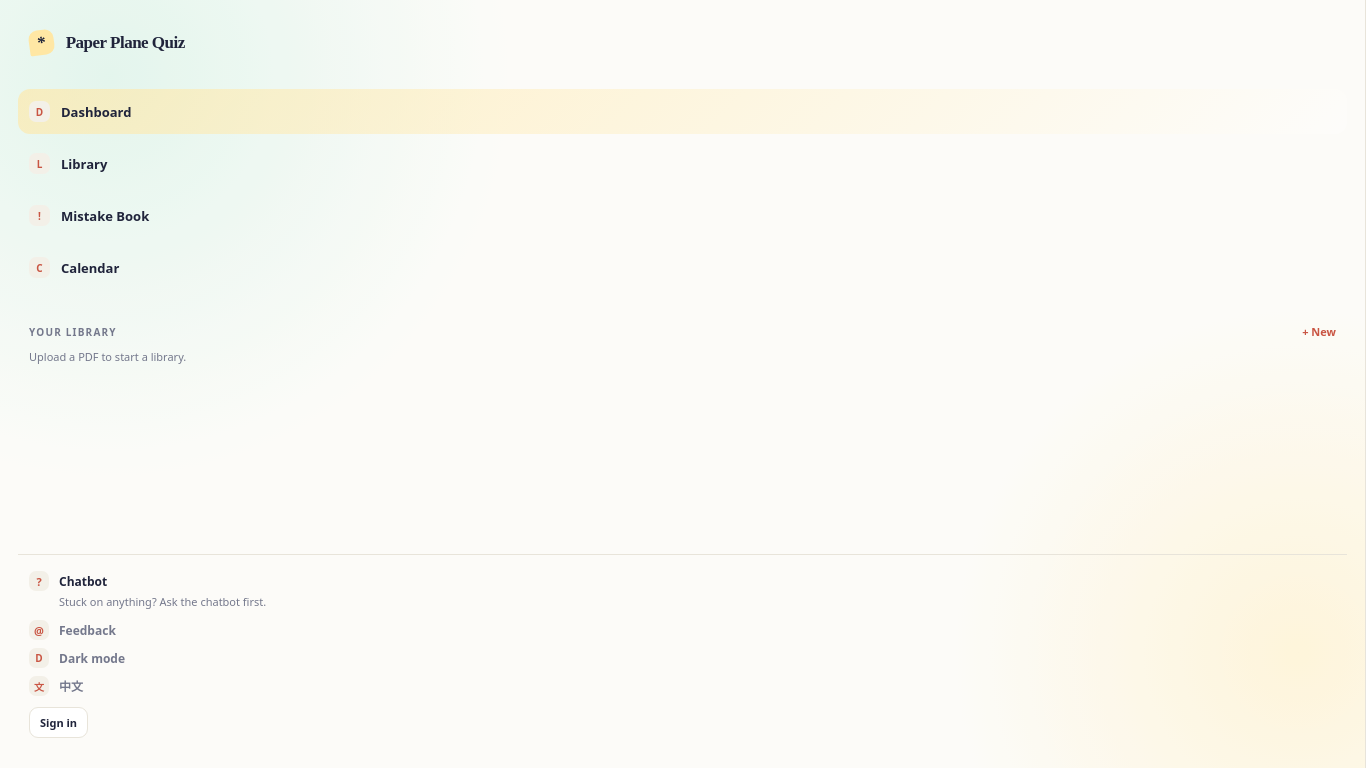
it: DashboardNavigation › lets a learner switch to dark mode and remembers the choice
Step 1. Click the button with aria-label "Switch to dark theme" → click(92, 658), box [29,648,1336,668]
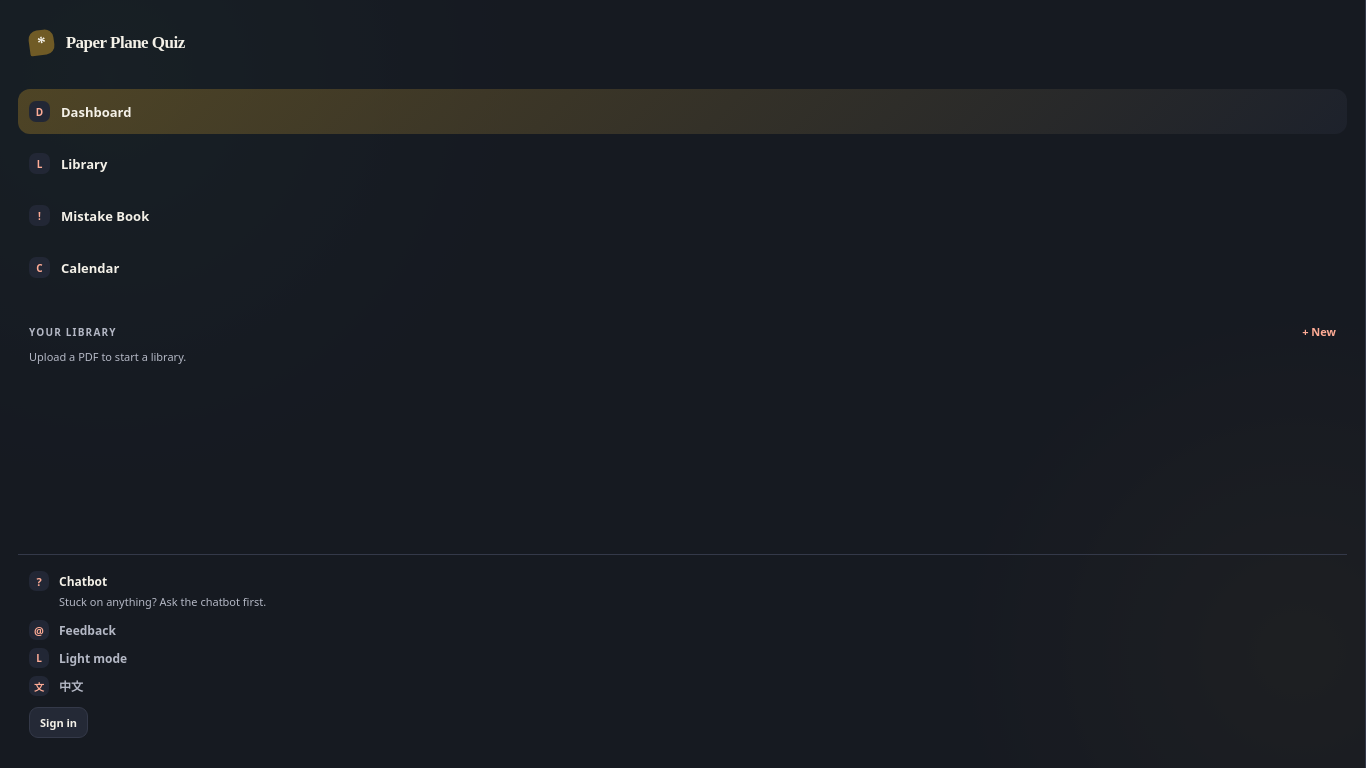
Result: the button with aria-label "Switch to light theme" is shown at [29,648,1336,668]
